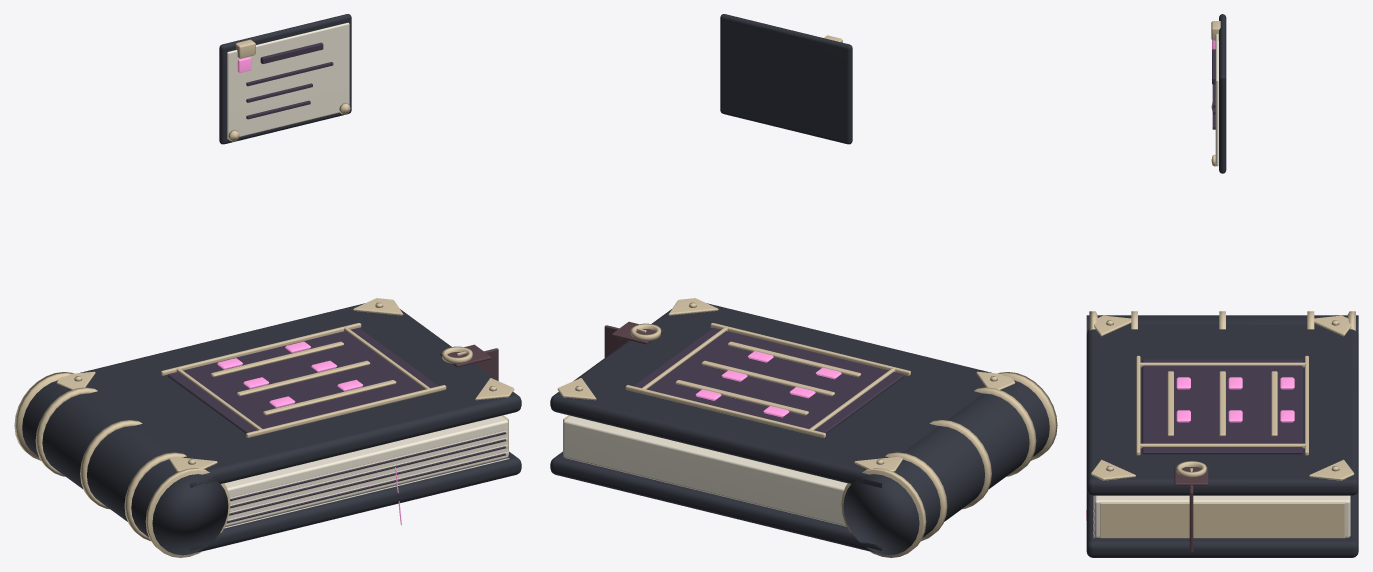
Rendered from magnotes_grimoire.glb.
3 renders of one model, left to right at view 1: azimuth 30°, elevation 25°; view 2: azimuth 150°, elevation 25°; view 3: azimuth 270°, elevation 25°, orthographic.
Visible parts, largest first — view 1: BOOK / back cover, BOOK / page edge 0, BOOK / buckle, BOOK / page leaf 0, NOTE / 01 paper, NOTE / 01 backing, NOTE / 01 line 0, BOOK / register index 0-0, BOOK / strap; view 2: BOOK / back cover, NOTE / 01 backing, BOOK / page leaf 0, BOOK / buckle, BOOK / page edge 0, BOOK / register index 0-0, BOOK / strap; view 3: BOOK / back cover, BOOK / buckle, BOOK / page edge 0, BOOK / page leaf 0, NOTE / 01 backing, BOOK / register index 0-0, BOOK / strap, NOTE / 01 paper.
Part boxes in pixels (<box>): BOOK / back cover: <box>22,303,521,555</box>; BOOK / page edge 0: <box>167,328,505,523</box>; BOOK / buckle: <box>14,298,514,557</box>; BOOK / page leaf 0: <box>224,416,509,528</box>; NOTE / 01 paper: <box>227,22,349,139</box>; NOTE / 01 backing: <box>219,14,351,144</box>; NOTE / 01 line 0: <box>246,42,333,118</box>; BOOK / register index 0-0: <box>217,341,401,525</box>; BOOK / strap: <box>440,344,498,380</box>; BOOK / back cover: <box>550,303,1049,555</box>; NOTE / 01 backing: <box>720,14,852,144</box>; BOOK / page leaf 0: <box>563,416,847,526</box>; BOOK / buckle: <box>557,298,1057,557</box>; BOOK / page edge 0: <box>633,328,904,433</box>; BOOK / register index 0-0: <box>695,351,841,417</box>; BOOK / strap: <box>604,321,662,357</box>; BOOK / back cover: <box>1086,315,1358,557</box>; BOOK / buckle: <box>1089,311,1355,538</box>; BOOK / page edge 0: <box>1092,359,1302,530</box>; BOOK / page leaf 0: <box>1093,495,1350,538</box>; NOTE / 01 backing: <box>1219,14,1226,173</box>; BOOK / register index 0-0: <box>1086,377,1294,520</box>; BOOK / strap: <box>1174,467,1208,552</box>; NOTE / 01 paper: <box>1215,33,1218,166</box>.
Bounding box in the file's own units: 1.77 × 1.93 × 1.05.
